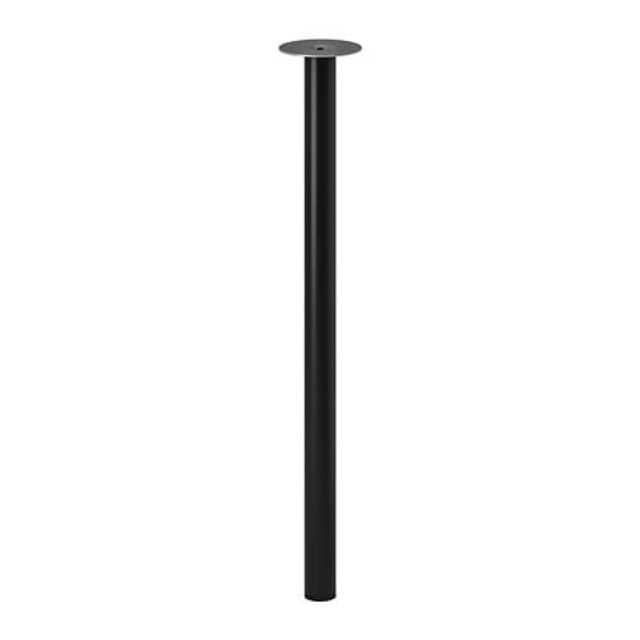obstacle: (279, 40, 360, 600)
